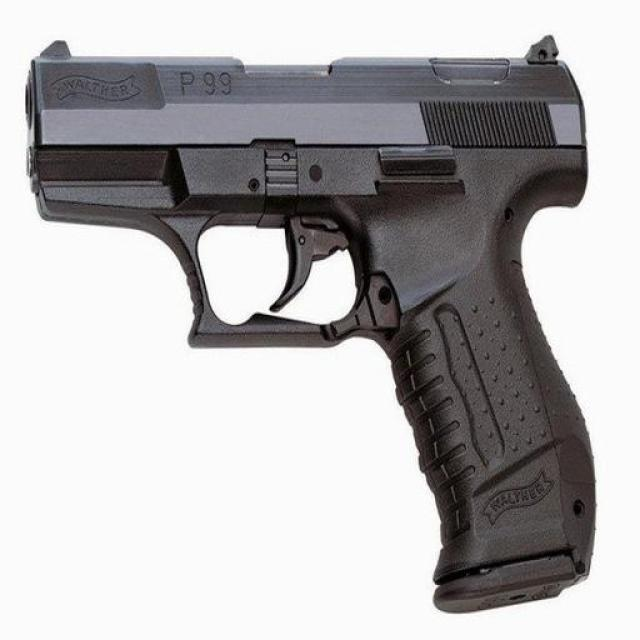pistol: (21, 34, 596, 614)
